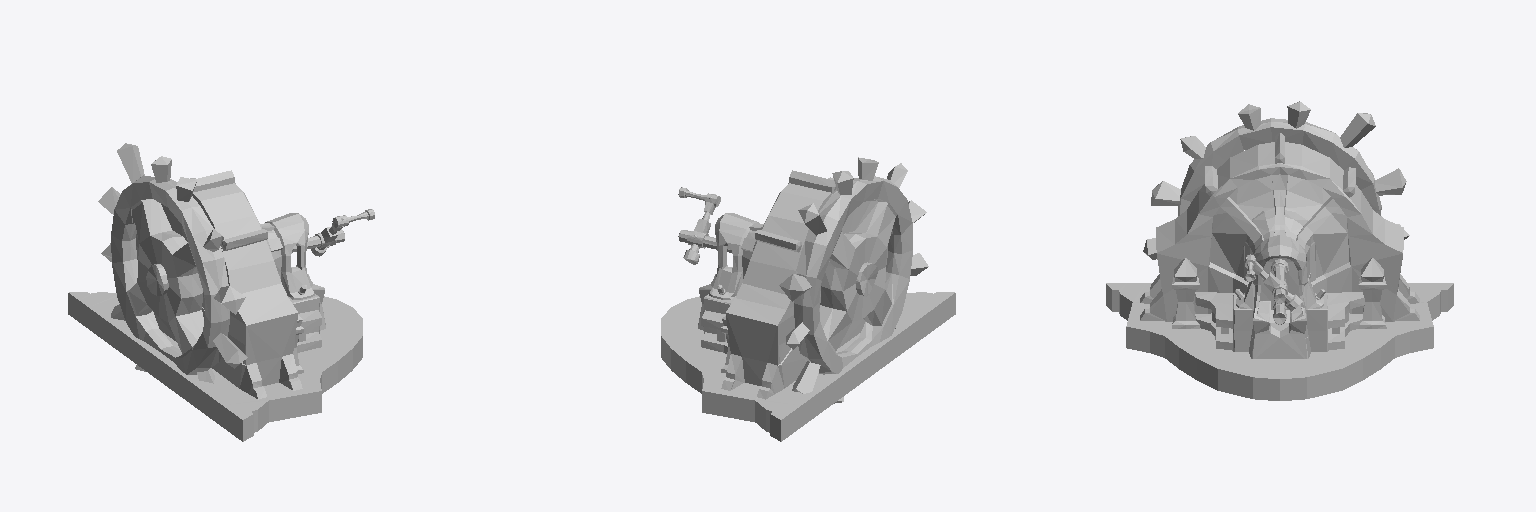
Rendered from MiningMachine.obj.
3 views of the same model, side by side, from view 1: azimuth 30°, elevation 25°; view 2: azimuth 150°, elevation 25°; view 3: azimuth 270°, elevation 25° (orthographic).
Visible parts, largest first — view 1: Object.1; view 2: Object.1; view 3: Object.1.
Boxes of the visible parts, x1=… form: Object.1: x1=68, y1=143, x2=374, y2=441; Object.1: x1=661, y1=157, x2=955, y2=441; Object.1: x1=1106, y1=101, x2=1453, y2=400.
Bounding box in the file's own units: 0.6784 × 0.7158 × 1.